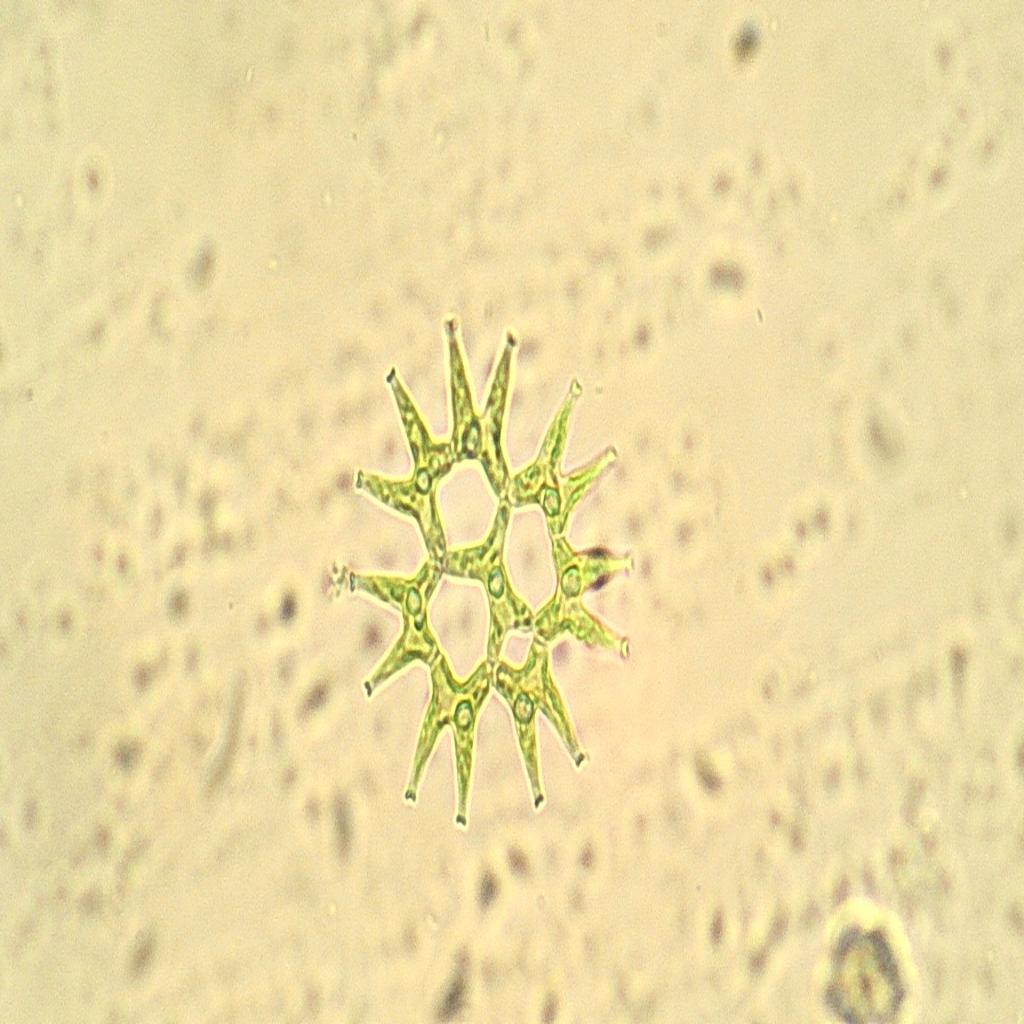Pediastrum_1T: (326, 295, 640, 840)
